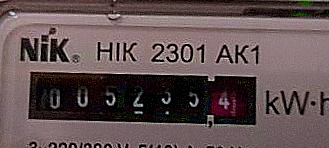0: (46, 84, 62, 109), (74, 83, 90, 107)
2: (129, 81, 146, 108)
3: (156, 80, 174, 105)
4: (214, 82, 233, 112)
5: (184, 80, 201, 109), (102, 81, 117, 107)
screen: (14, 54, 267, 138)
